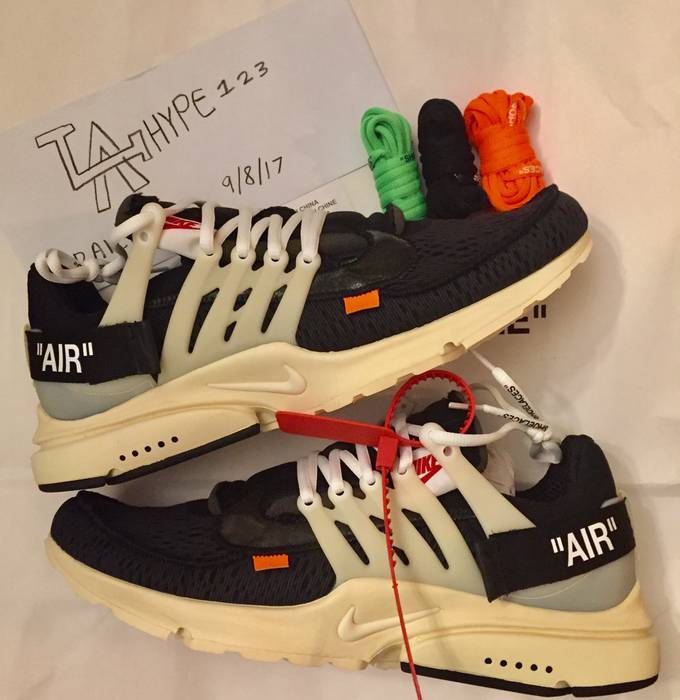Nike x OFF--WHITE Air Presto OG: (17, 139, 602, 505), (40, 394, 671, 700)
